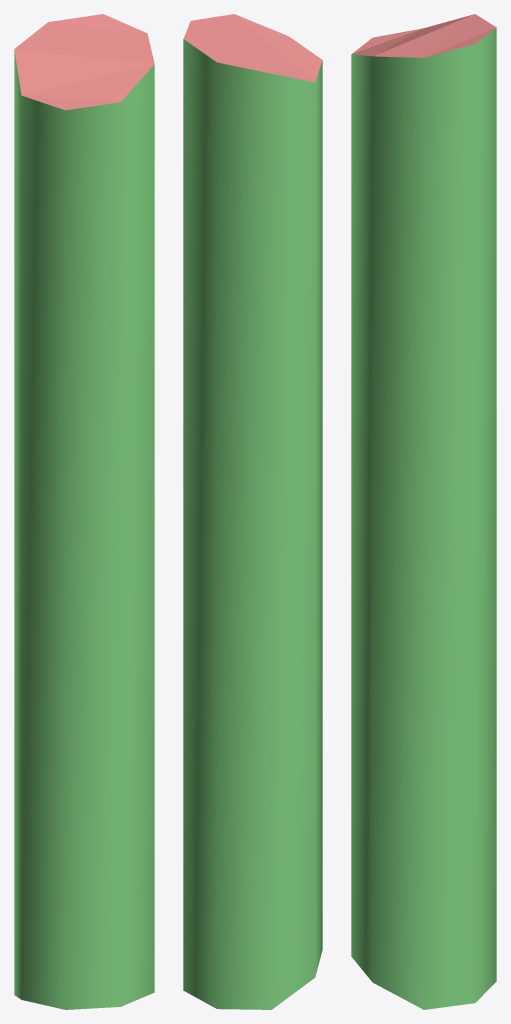
Rendered from sylentemple_outdeco03.gltf.
The picture shows the model from 3 angles, left to right: view 1: azimuth 30°, elevation 25°; view 2: azimuth 150°, elevation 25°; view 3: azimuth 270°, elevation 25°; orthographic projection.
Visible parts, largest first — view 1: sylentemple_outdeco03; view 2: sylentemple_outdeco03; view 3: sylentemple_outdeco03.
Part boxes in pixels (bbox=[...]): sylentemple_outdeco03: bbox=[14, 14, 154, 1009]; sylentemple_outdeco03: bbox=[183, 14, 322, 1009]; sylentemple_outdeco03: bbox=[351, 14, 496, 1009].
Size of the model in its own units: 0.576 by 4.2 by 0.576.
